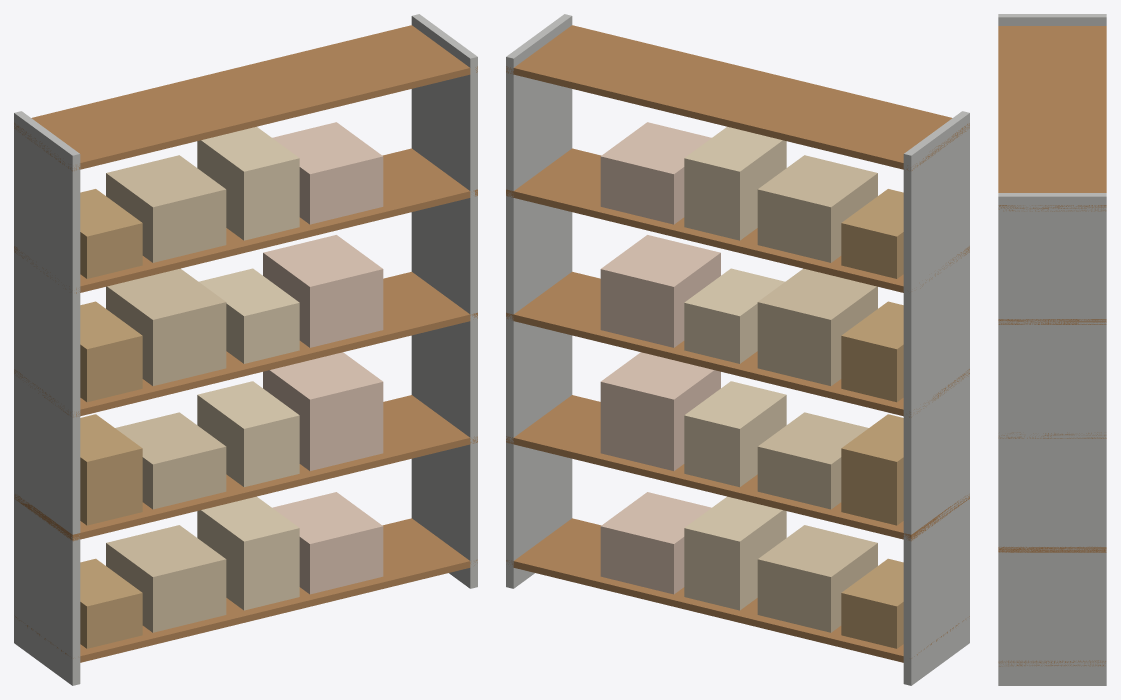
Rendered from estante_deposito_160.obj.
3 renders of one model, left to right at view 1: azimuth 30°, elevation 25°; view 2: azimuth 150°, elevation 25°; view 3: azimuth 270°, elevation 25°, orthographic. The views are drawn at different scales.
Visible parts, largest first — view 1: estante_deposito_160; view 2: estante_deposito_160; view 3: estante_deposito_160.
Part boxes in pixels (box(x1,y1,x2,y2)): estante_deposito_160: box(14, 14, 477, 685); estante_deposito_160: box(506, 14, 969, 685); estante_deposito_160: box(998, 14, 1106, 685).
Bounding box in the file's own units: 160 × 200 × 40.
